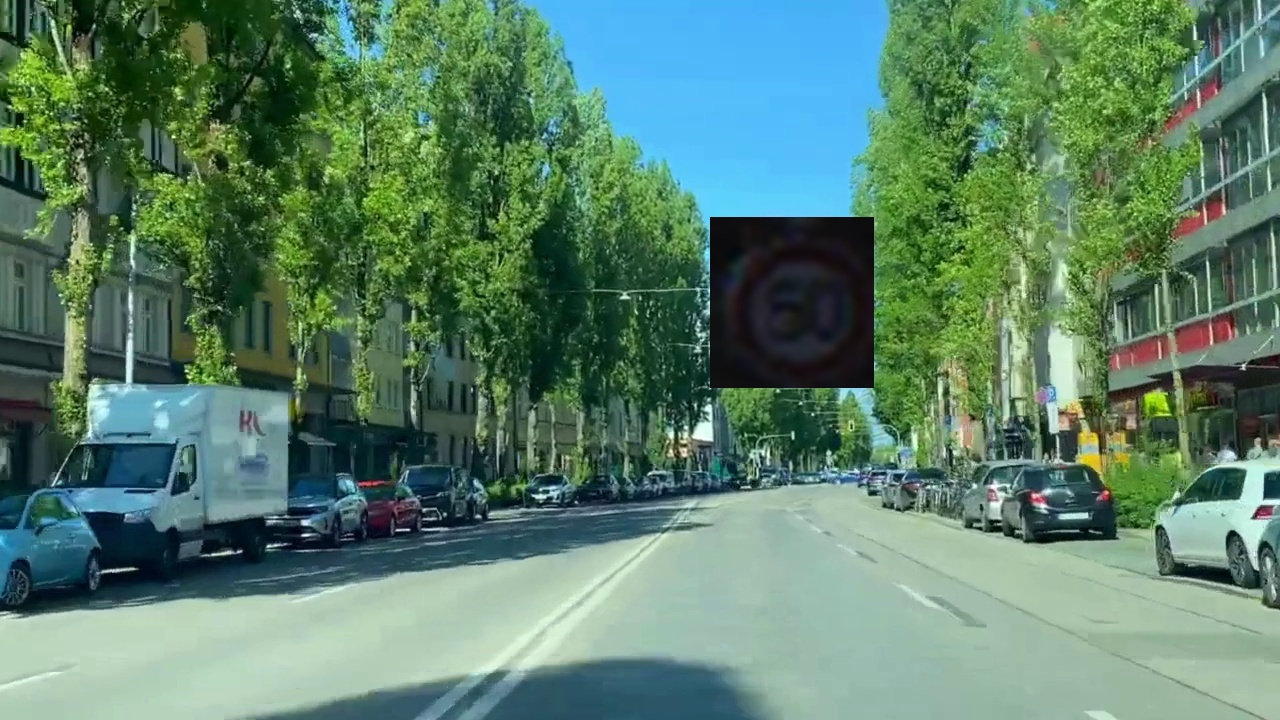Speed 50: (710, 217, 874, 388)
